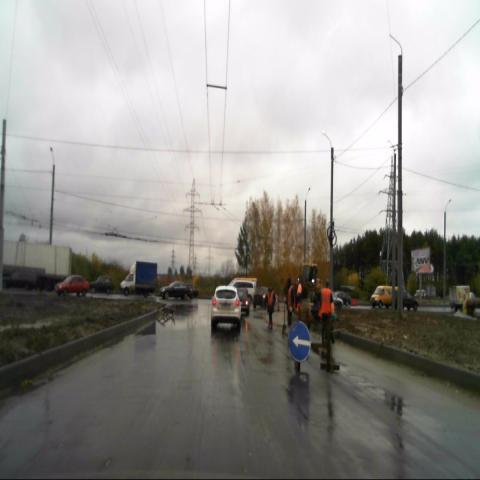4_1_2_2: (288, 320, 311, 364)
